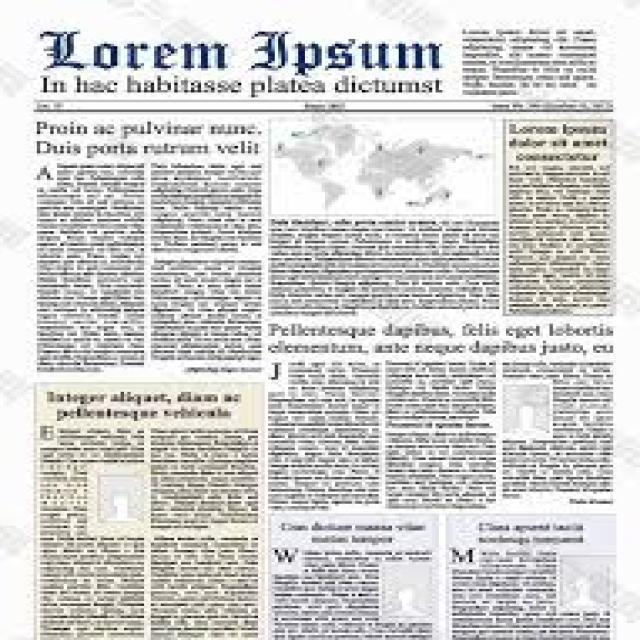paper: (11, 29, 640, 639)
